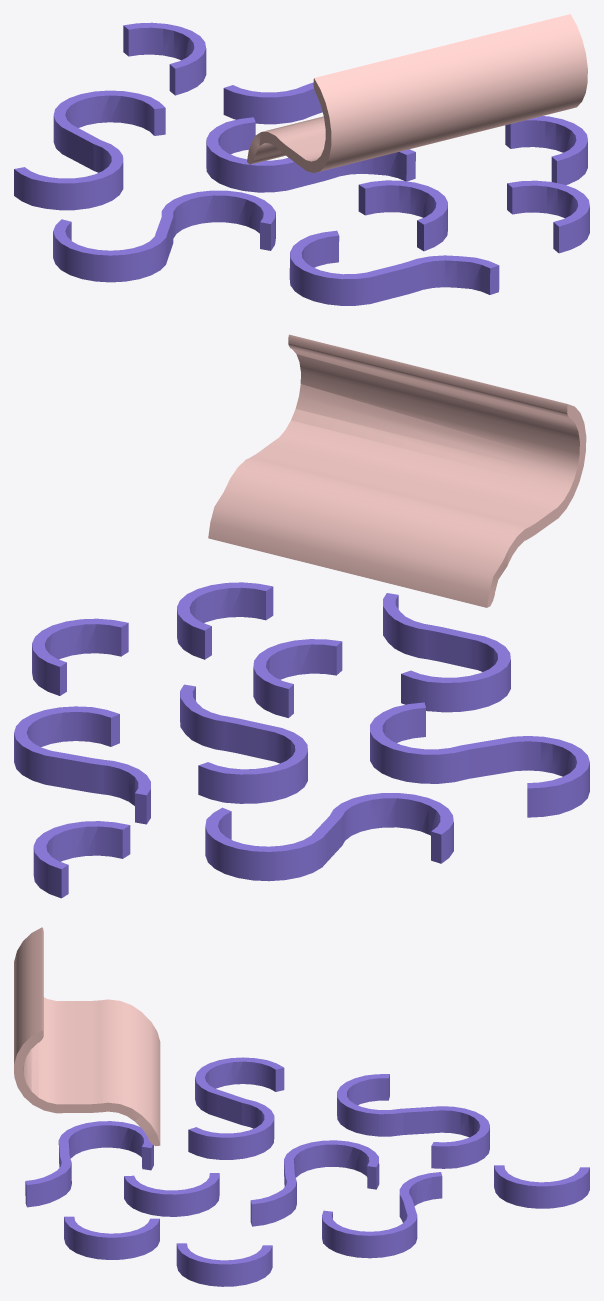
The model's file is NewMazeElement.fbx.
3 renders of one model, top to bottom at view 1: azimuth 30°, elevation 25°; view 2: azimuth 150°, elevation 25°; view 3: azimuth 270°, elevation 25°, orthographic. The views are drawn at different scales.
Parts seen in each view (by area): view 1: polySurface18, polySurface13, polySurface16, polySurface15, polySurface9, polySurface12, polySurface17, polySurface14, polySurface11, polySurface10; view 2: polySurface18, polySurface16, polySurface13, polySurface10, polySurface9, polySurface15, polySurface17, polySurface14, polySurface11, polySurface12; view 3: polySurface18, polySurface13, polySurface16, polySurface9, polySurface10, polySurface15, polySurface11, polySurface14, polySurface17, polySurface12.
Boxes of the visible parts, x1,y1,x2,y2 form: polySurface18: (247, 14, 587, 172); polySurface13: (14, 90, 165, 210); polySurface16: (53, 190, 275, 282); polySurface15: (289, 230, 499, 305); polySurface9: (206, 117, 415, 192); polySurface12: (358, 180, 447, 251); polySurface17: (123, 22, 206, 95); polySurface14: (507, 180, 589, 253); polySurface11: (505, 116, 587, 184); polySurface10: (223, 82, 322, 124); polySurface18: (208, 334, 586, 607); polySurface16: (370, 702, 589, 817); polySurface13: (205, 793, 453, 881); polySurface10: (14, 706, 150, 824); polySurface9: (180, 684, 307, 803); polySurface15: (383, 593, 510, 712); polySurface17: (33, 821, 130, 898); polySurface14: (177, 582, 273, 659); polySurface11: (32, 618, 128, 695); polySurface12: (253, 639, 342, 717); polySurface18: (14, 927, 160, 1145); polySurface13: (337, 1074, 489, 1168); polySurface16: (188, 1057, 284, 1159); polySurface9: (250, 1140, 379, 1226); polySurface10: (322, 1172, 442, 1258); polySurface15: (25, 1121, 153, 1207); polySurface11: (176, 1243, 272, 1286); polySurface14: (64, 1216, 159, 1259); polySurface17: (494, 1165, 589, 1208); polySurface12: (124, 1173, 219, 1216).
Size of the model in its own units: 28.56 by 13.51 by 33.58.
